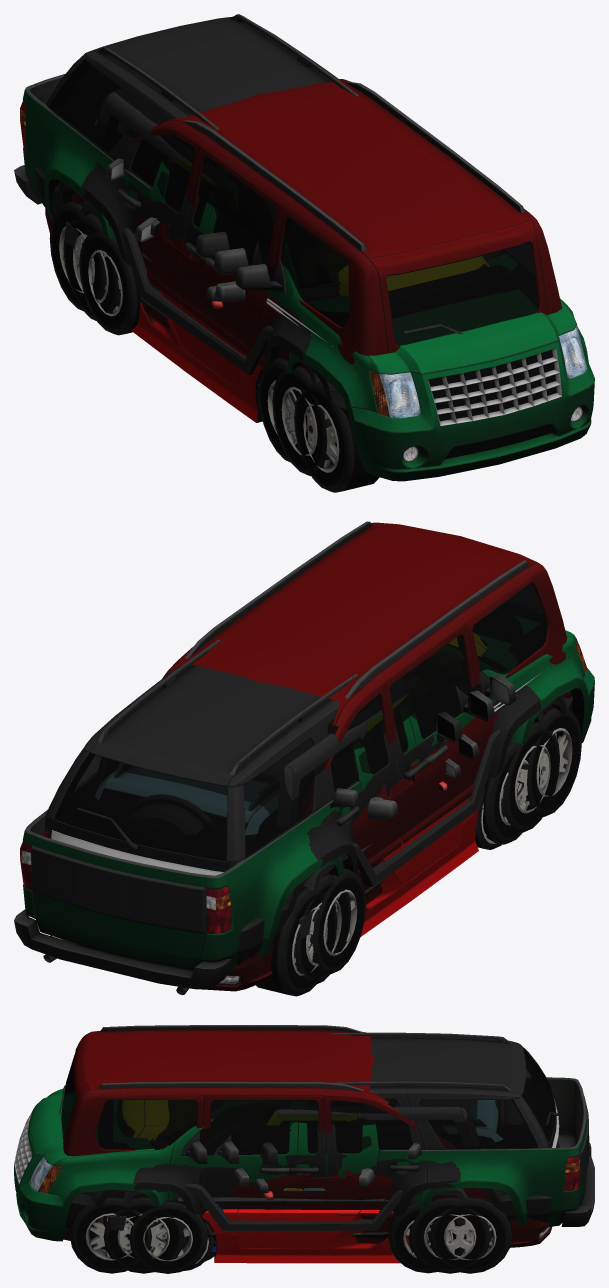
File: pack.glb
The picture shows the model from 3 angles, top to bottom: view 1: azimuth 30°, elevation 25°; view 2: azimuth 150°, elevation 25°; view 3: azimuth 270°, elevation 25°; orthographic projection. The views are drawn at different scales.
Parts seen in each view (by area): view 1: minivan body_Body_0, Pickup Body_Body_0, SUV Body_Body_0, minivan body_Glass_0, Wheel_E002_Wheel_0 (×2), Offroad Body_Body_0, SUV Body_Glass_0, Sport body_Body_0, Wheel_E003_Wheel_0 (×2), Pickup Body_Optics_0, Wheel_G002_Wheel_0, Pickup Body_Glass_0 (+2 smaller); view 2: minivan body_Body_0, SUV Body_Body_0, Pickup Body_Body_0, SUV Body_Glass_0, Offroad Body_Body_0, minivan body_Glass_0, Wheel_E002_Wheel_0 (×2), Wheel_E003_Wheel_0 (×2), Sport body_Body_0, Wagon Body_Body_0, Wheel_G002_Wheel_0, Offroad Body_Glass_0 (+4 smaller); view 3: minivan body_Body_0, SUV Body_Body_0, Pickup Body_Body_0, SUV Body_Glass_0, minivan body_Glass_0, Sport body_Body_0, Offroad Body_Body_0, Wheel_E001_Wheel_0 (×2), Wheel_E_Wheel_0 (×2), Pickup Body_Glass_0, Wheel_G_Wheel_0, Wheel_G001_Wheel_0 (+3 smaller).
Part boxes in pixels (x1=…): minivan body_Body_0: x1=45, y1=79, x2=562, y2=383; Pickup Body_Body_0: x1=14, y1=74, x2=594, y2=481; SUV Body_Body_0: x1=34, y1=14, x2=359, y2=419; minivan body_Glass_0: x1=132, y1=122, x2=538, y2=346; Wheel_E002_Wheel_0 (×2): x1=272, y1=366, x2=379, y2=492; Offroad Body_Body_0: x1=65, y1=88, x2=324, y2=412; SUV Body_Glass_0: x1=48, y1=59, x2=246, y2=243; Sport body_Body_0: x1=131, y1=291, x2=263, y2=422; Wheel_E003_Wheel_0 (×2): x1=49, y1=200, x2=120, y2=320; Pickup Body_Optics_0: x1=20, y1=100, x2=586, y2=462; Wheel_G002_Wheel_0: x1=79, y1=232, x2=143, y2=335; Pickup Body_Glass_0: x1=165, y1=181, x2=275, y2=281; minivan body_Body_0: x1=50, y1=521, x2=571, y2=991; SUV Body_Body_0: x1=45, y1=639, x2=572, y2=965; Pickup Body_Body_0: x1=14, y1=630, x2=594, y2=995; SUV Body_Glass_0: x1=54, y1=691, x2=443, y2=860; Offroad Body_Body_0: x1=96, y1=692, x2=546, y2=939; minivan body_Glass_0: x1=328, y1=583, x2=547, y2=791; Wheel_E002_Wheel_0 (×2): x1=501, y1=707, x2=581, y2=832; Wheel_E003_Wheel_0 (×2): x1=256, y1=874, x2=351, y2=996; Sport body_Body_0: x1=360, y1=781, x2=478, y2=936; Wagon Body_Body_0: x1=95, y1=734, x2=479, y2=834; Wheel_G002_Wheel_0: x1=310, y1=868, x2=365, y2=973; Offroad Body_Glass_0: x1=104, y1=747, x2=345, y2=825; minivan body_Body_0: x1=59, y1=1025, x2=551, y2=1247; SUV Body_Body_0: x1=64, y1=1032, x2=559, y2=1240; Pickup Body_Body_0: x1=14, y1=1077, x2=594, y2=1241; SUV Body_Glass_0: x1=257, y1=1048, x2=555, y2=1153; minivan body_Glass_0: x1=61, y1=1056, x2=412, y2=1150; Sport body_Body_0: x1=202, y1=1191, x2=409, y2=1263; Offroad Body_Body_0: x1=103, y1=1100, x2=523, y2=1230; Wheel_E001_Wheel_0 (×2): x1=408, y1=1196, x2=512, y2=1273; Wheel_E_Wheel_0 (×2): x1=69, y1=1194, x2=185, y2=1273; Pickup Body_Glass_0: x1=168, y1=1117, x2=361, y2=1155; Wheel_G_Wheel_0: x1=128, y1=1200, x2=207, y2=1273; Wheel_G001_Wheel_0: x1=388, y1=1200, x2=466, y2=1273.
Size of the model in its own units: 2.07 by 1.76 by 5.18.
Materials: 40 (30 with a texture image).
